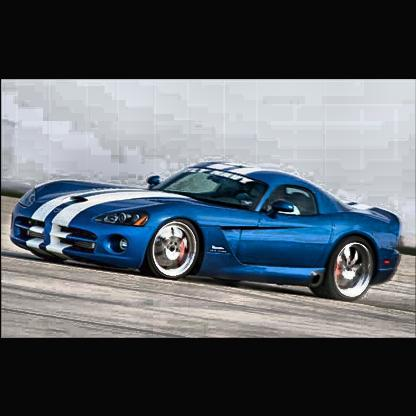Ford GT Coupe 2006: (10, 161, 400, 304)
